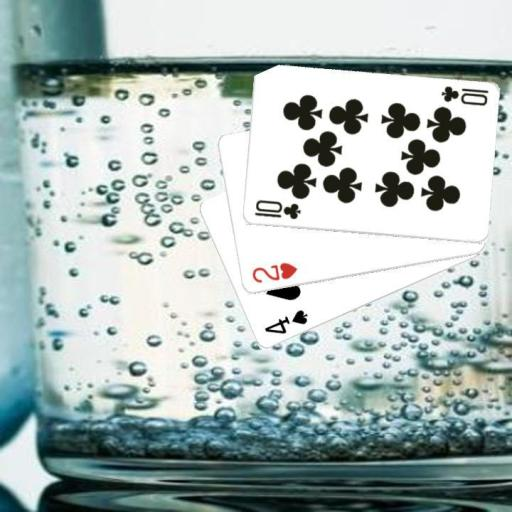10C: (438, 83, 489, 108), (251, 197, 302, 221)
2H: (248, 260, 299, 285)
4S: (261, 307, 309, 337)
